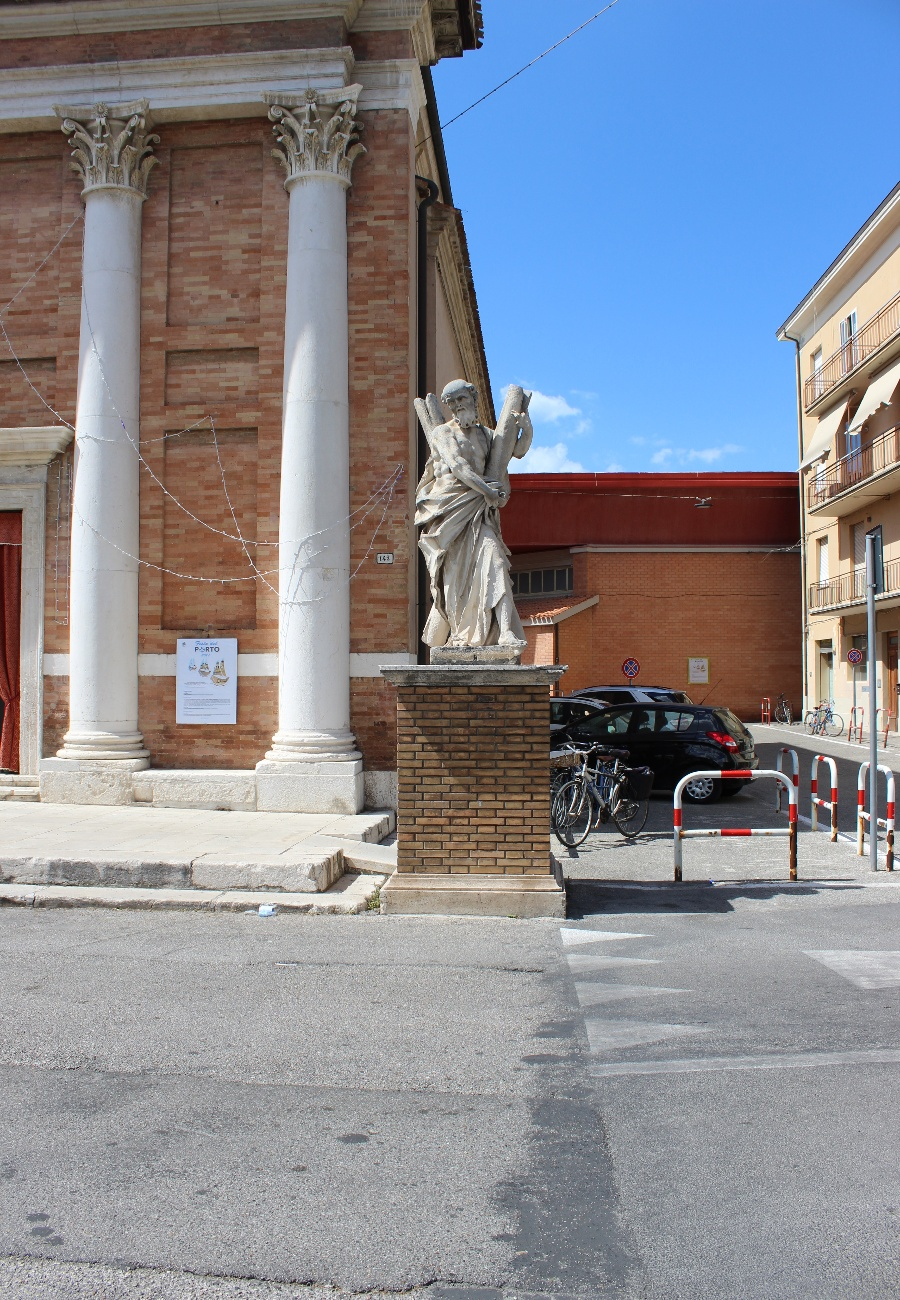Parrocchia Santa Maria: (367, 370, 567, 688)
